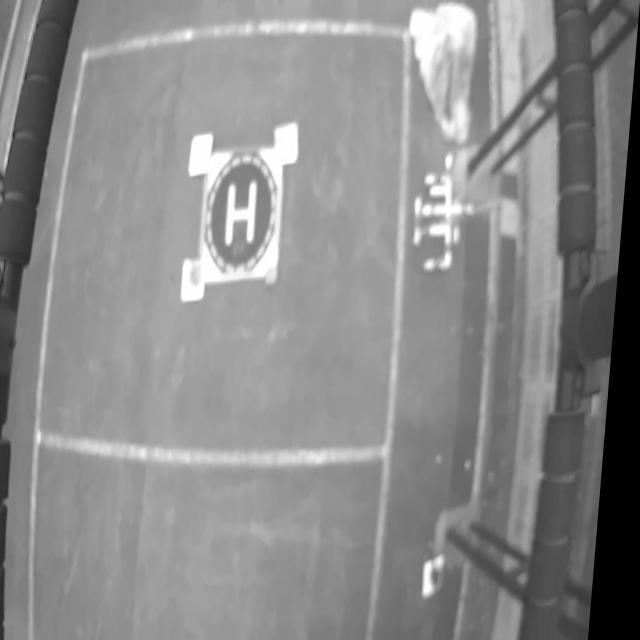Helipad: (229, 182, 260, 246)
